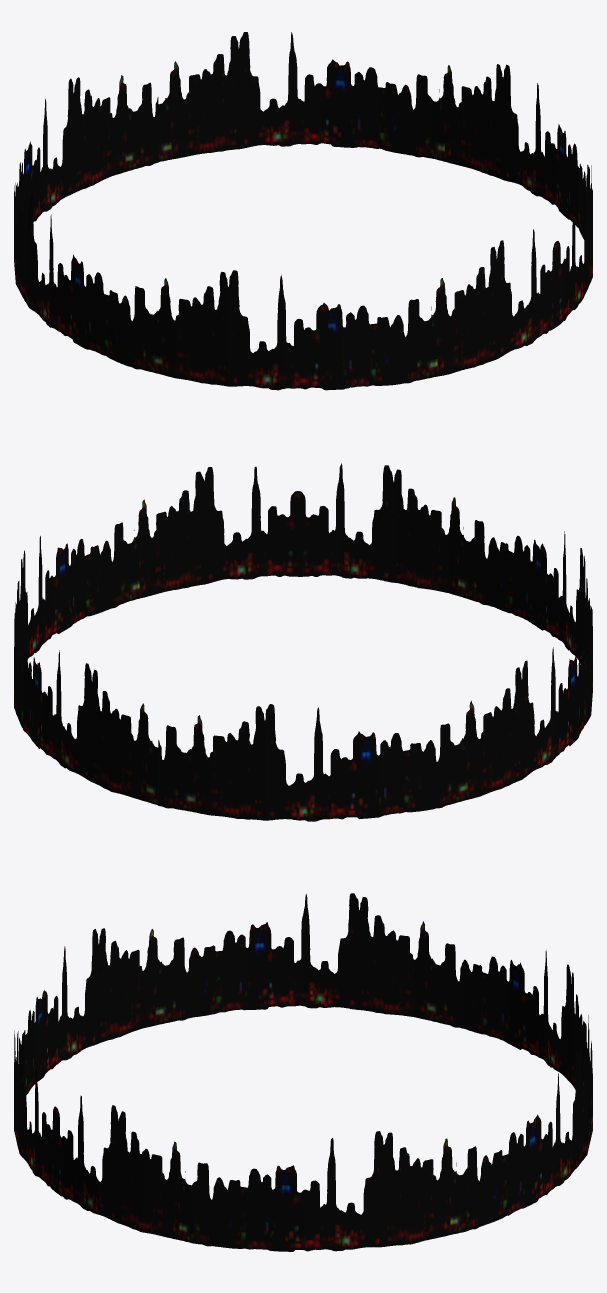
The model's file is bg_city_V.2.fbx.
The picture shows the model from 3 angles, top to bottom: view 1: azimuth 30°, elevation 25°; view 2: azimuth 150°, elevation 25°; view 3: azimuth 270°, elevation 25°; orthographic projection.
Visible parts, largest first — view 1: Cylinder; view 2: Cylinder; view 3: Cylinder.
Boxes of the visible parts, box(x1,y1,x2,y2) form: Cylinder: box(14, 32, 592, 390); Cylinder: box(14, 463, 592, 821); Cylinder: box(14, 893, 592, 1251).
Size of the model in its own units: 20000 by 6000 by 20000.
Materials: 1 (1 with a texture image).
